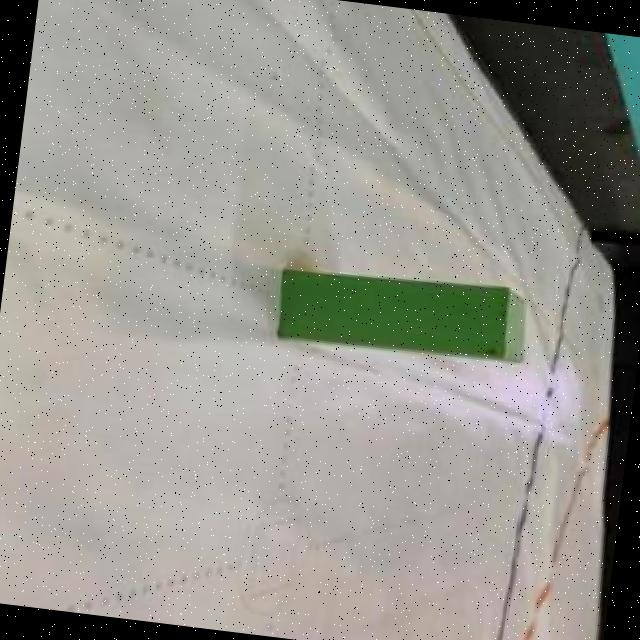greenbox: (274, 260, 536, 370)
